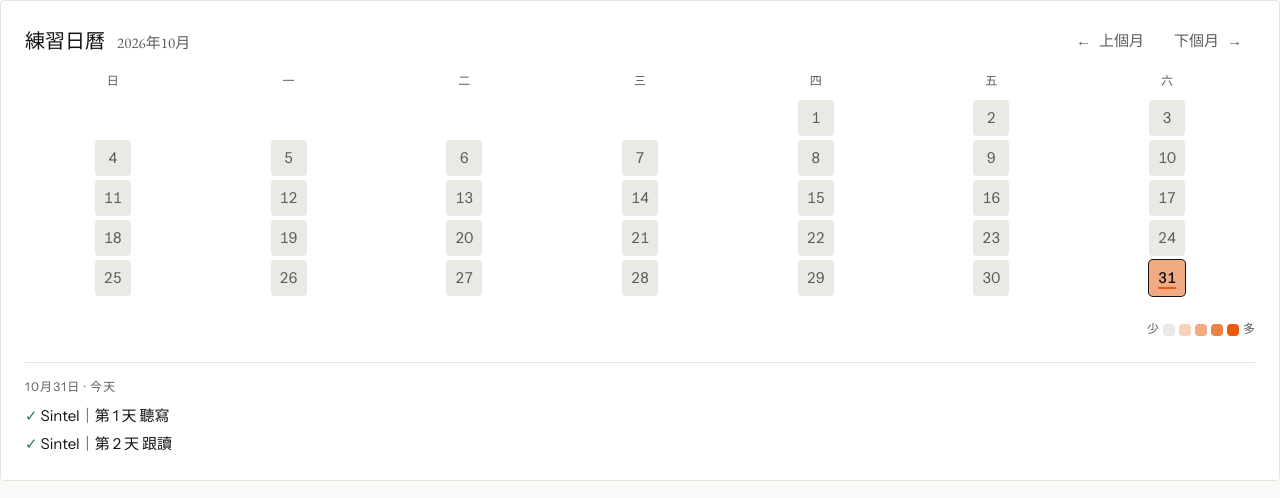
Test: PracticeCalendar › doesn't pop a tooltip for touch; a tap lists that day below
Hover over the button "1".
mouse_move(816, 118)  # box [798, 100, 834, 136]
Click the button "1".
click(816, 118)  # box [798, 100, 834, 136]
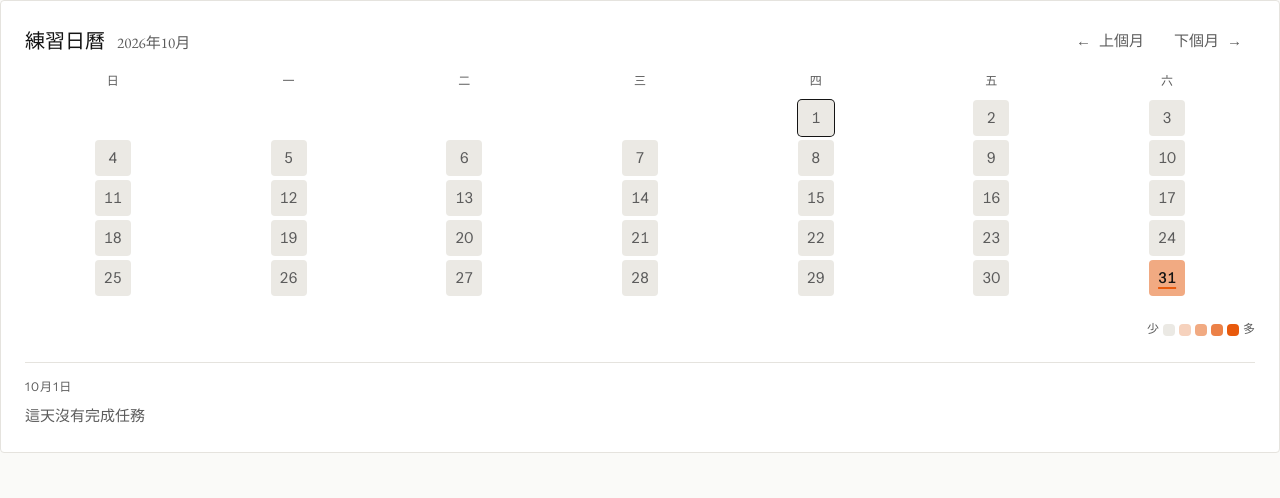
Check: the text "這天沒有完成任務" is shown, box [25, 406, 145, 425]
